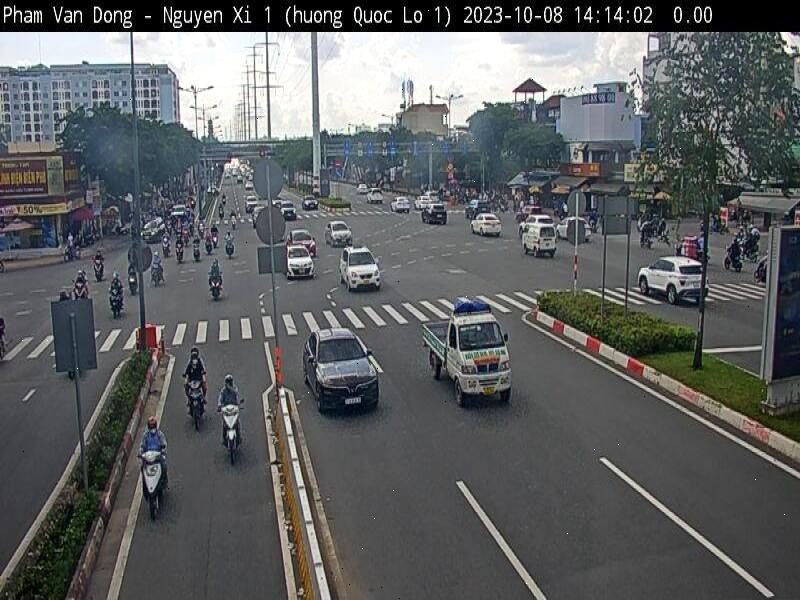car: (422, 307, 512, 407), (303, 328, 379, 416), (340, 245, 381, 293), (286, 245, 316, 278), (287, 229, 316, 257), (470, 213, 501, 238), (325, 220, 354, 245), (422, 203, 447, 225), (302, 194, 318, 211)
motorcycle: (136, 450, 166, 521), (219, 399, 245, 465), (182, 371, 208, 430)
